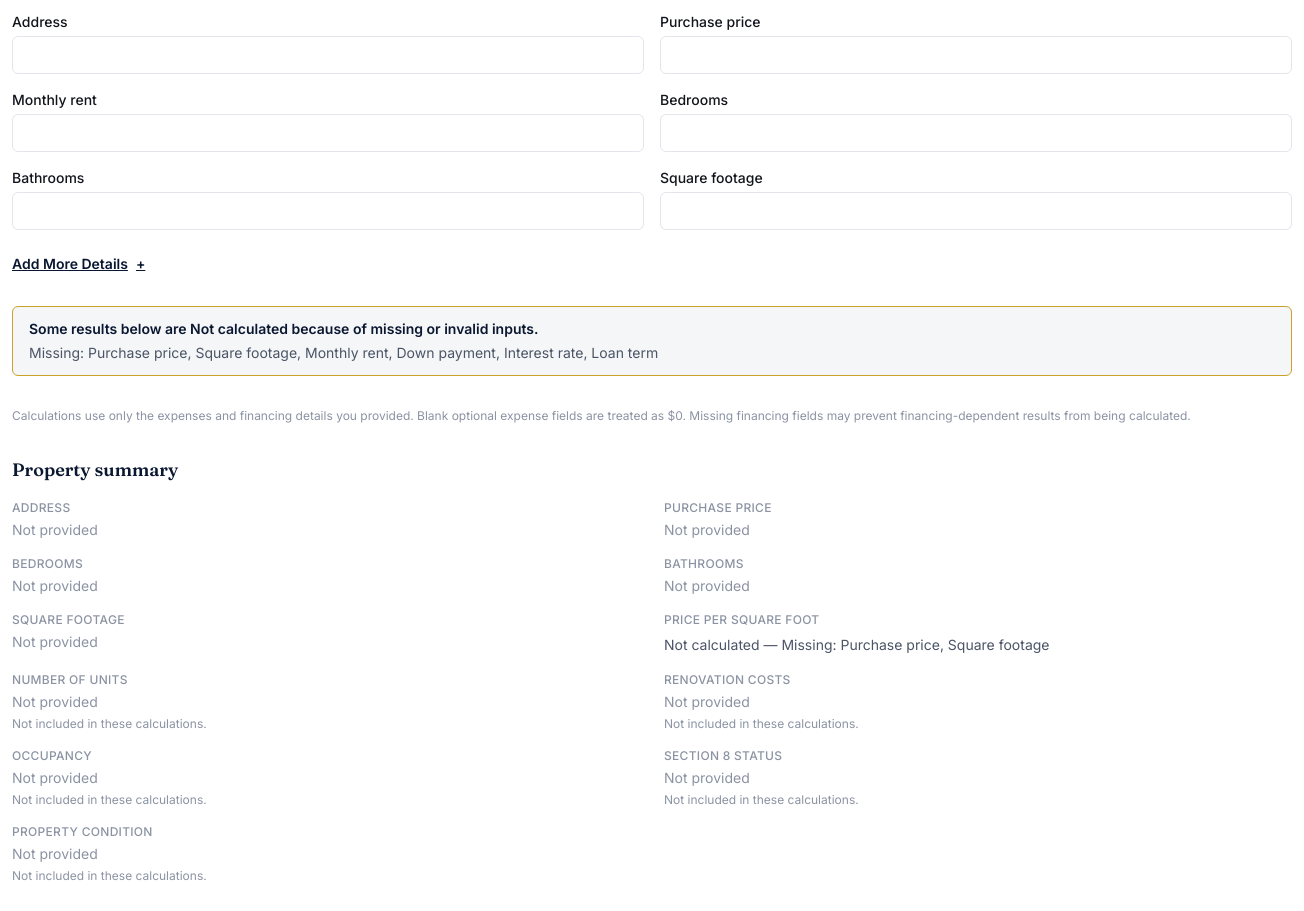
it: ManualDealEntryForm — down payment Amount/Percent toggle › defaults to Amount ($) mode
Click the button "Add More Details +": click(79, 264) [12,254,145,274]
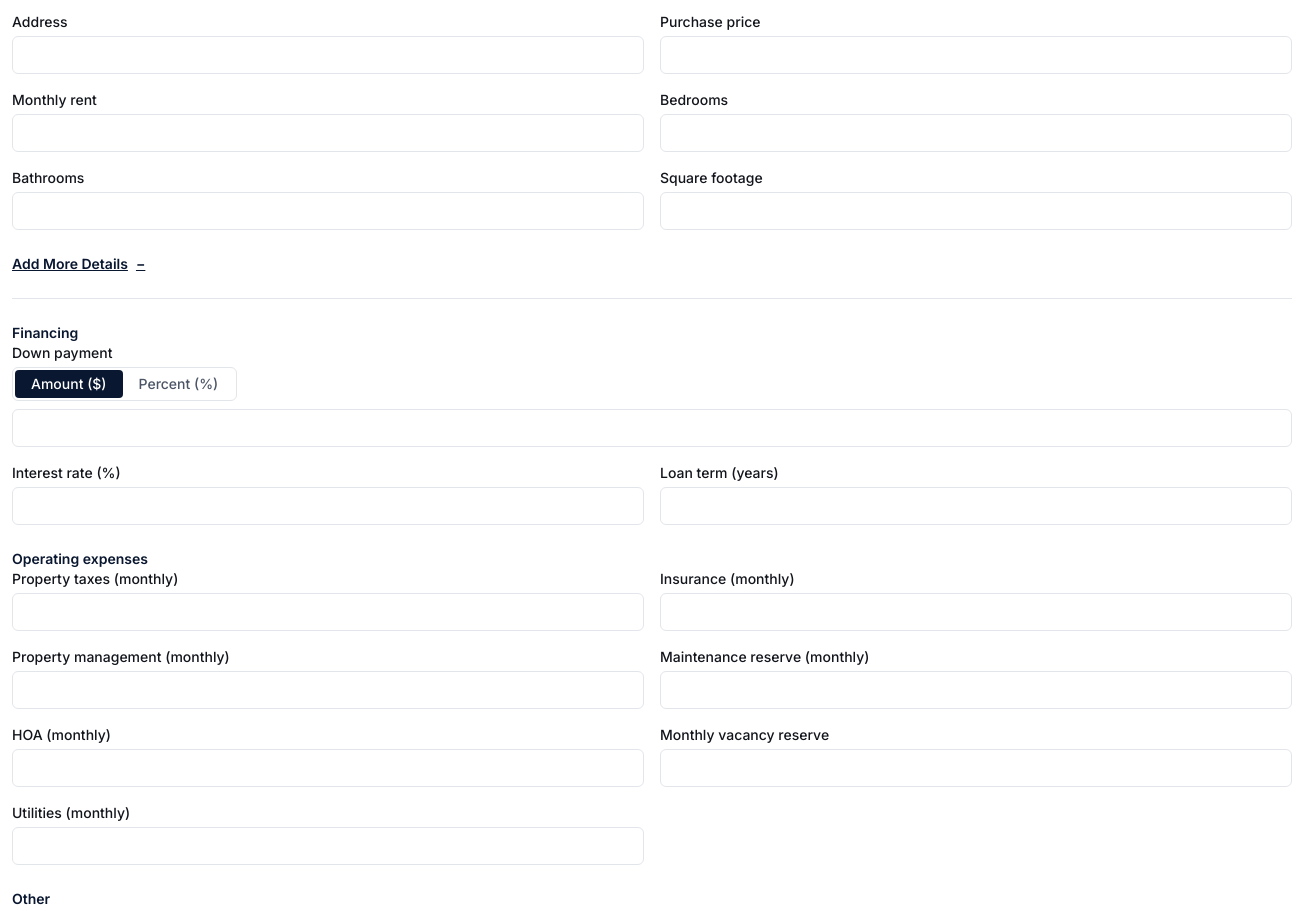
Check: the radio button labelled "Amount ($)" is checked, box [15,370,122,398]
Check: the radio button labelled "Percent (%)" is not checked, box [138,375,218,392]
Check: the number field named "Down payment" is shown, box [12,409,1292,447]
